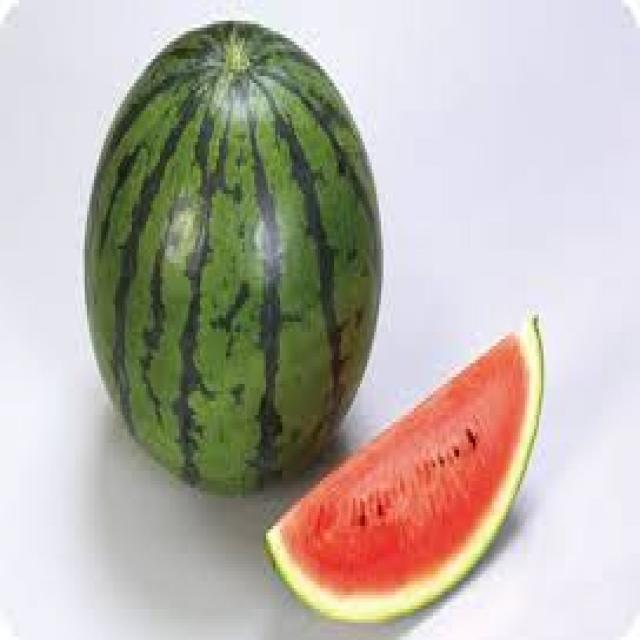organic waste: (80, 21, 381, 494), (264, 315, 541, 623)
